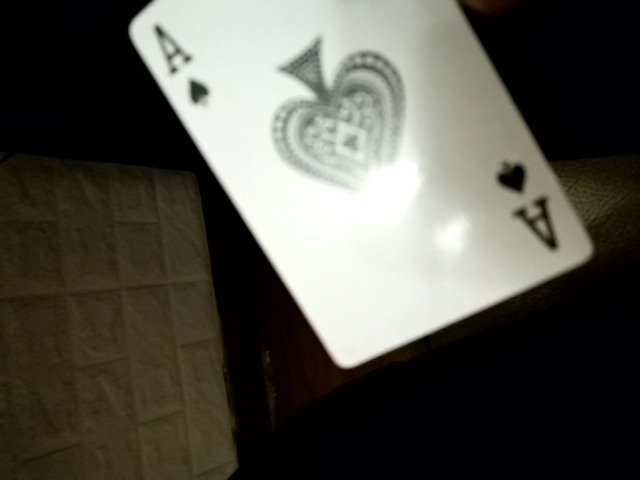ht a: (116, 5, 570, 377)
